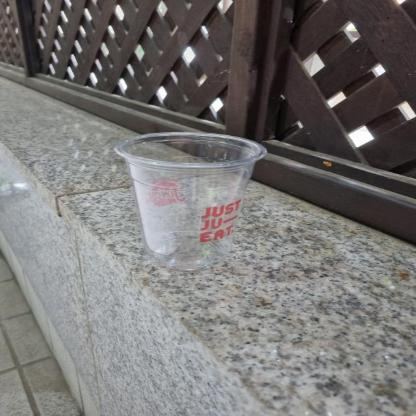Plastic Cup: (112, 130, 268, 268)
